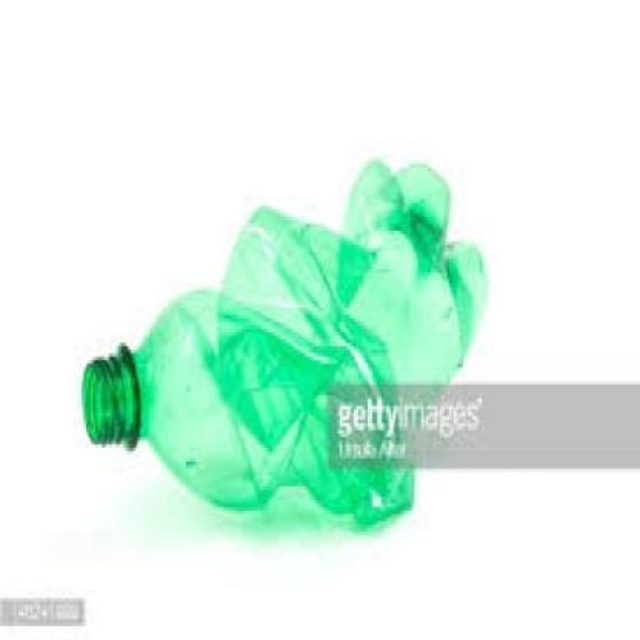trash: (83, 162, 486, 526)
